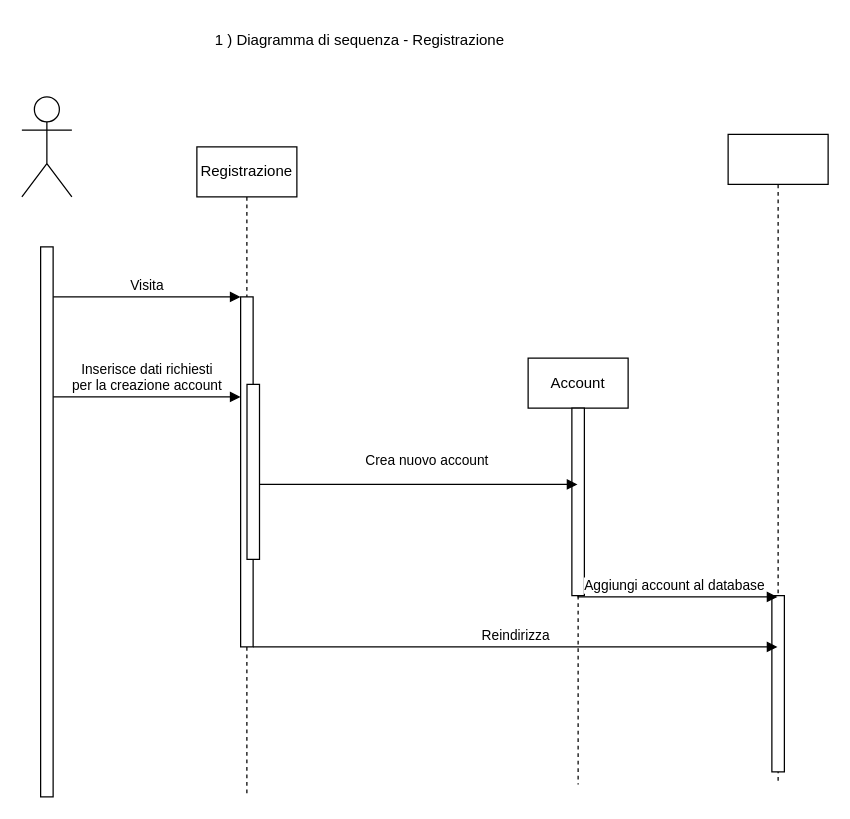
This 850x819 diagram has some shape labels left out. Here are the shapes that lost their labels. From the top down, the box of each, then its label:
(21, 96, 72, 197): Cliente
(727, 133, 828, 784): pagina Prodotti
